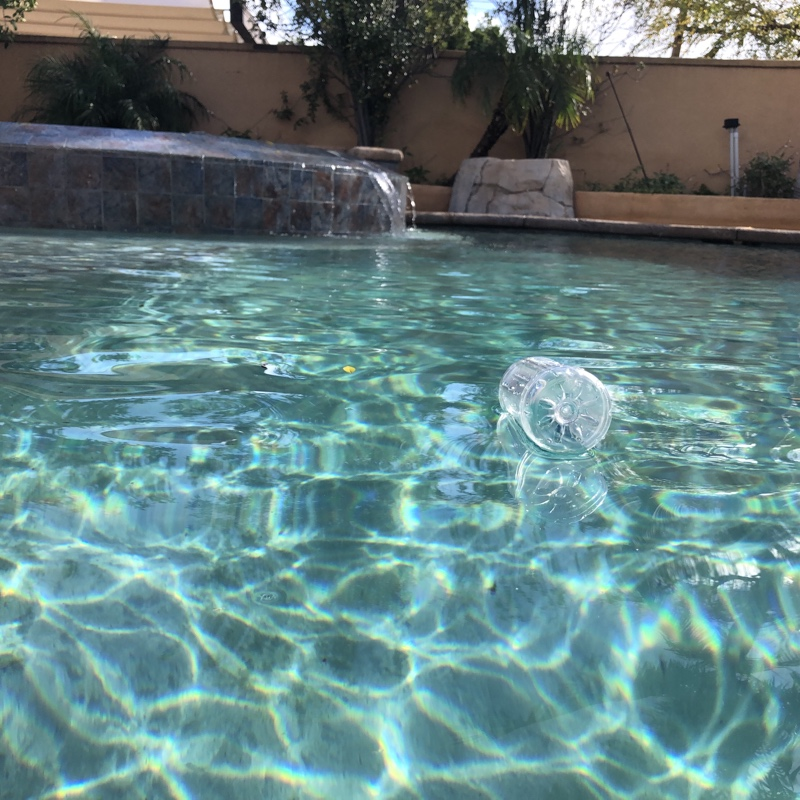Plastic Bottle: (498, 353, 613, 463)
